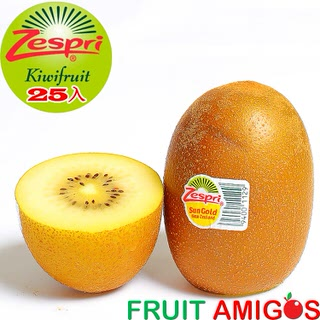kiwi: (165, 77, 315, 295)
